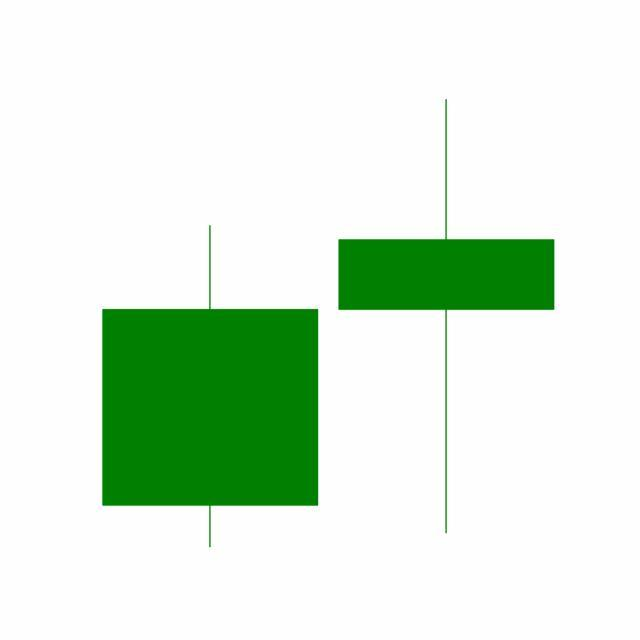Spinning Top: (328, 95, 566, 539)
